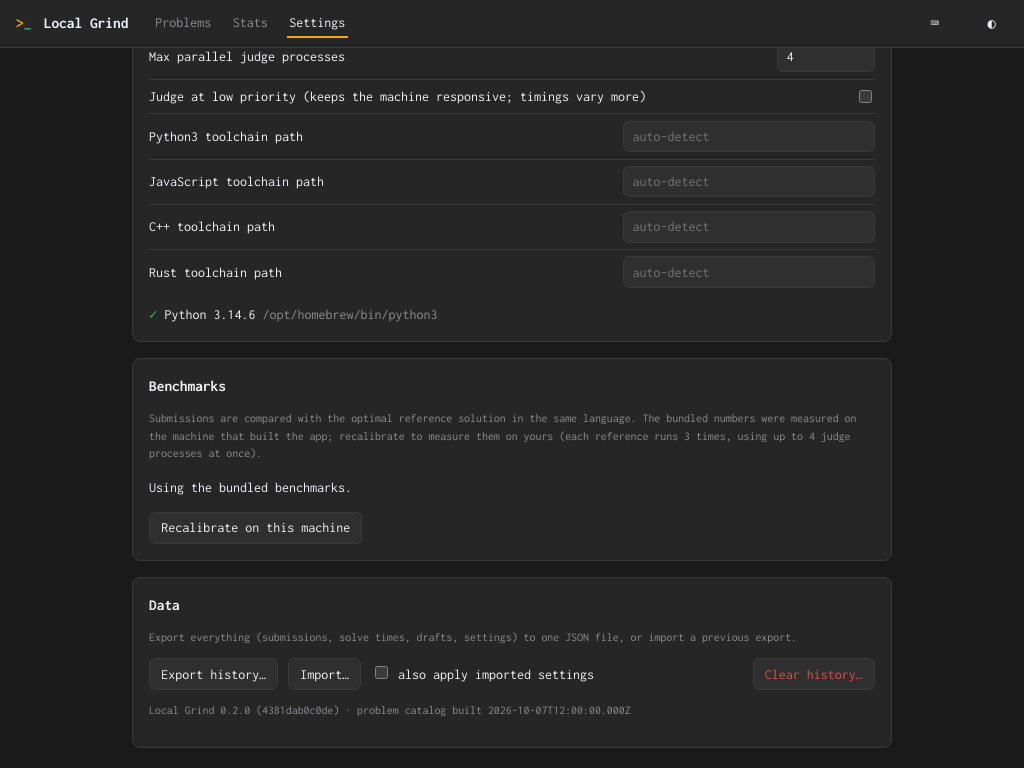
Test case: App › reports export failures
(page scrolled)
Expected: the link with aria-label "Local Grind home" is shown, top-left (16, 12), bottom-right (128, 35)
Click the button "Export history…". click: (214, 674)
box: top-left (149, 658), bottom-right (278, 690)
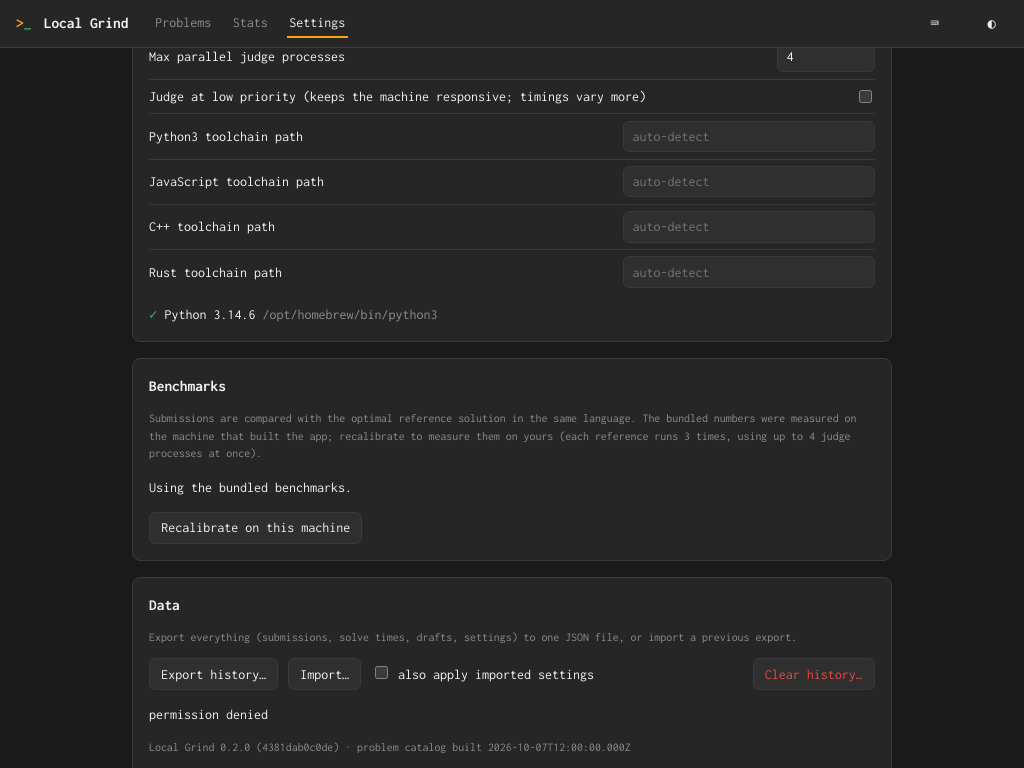
Expected: the text "permission denied" is shown, top-left (149, 707), bottom-right (268, 722)
